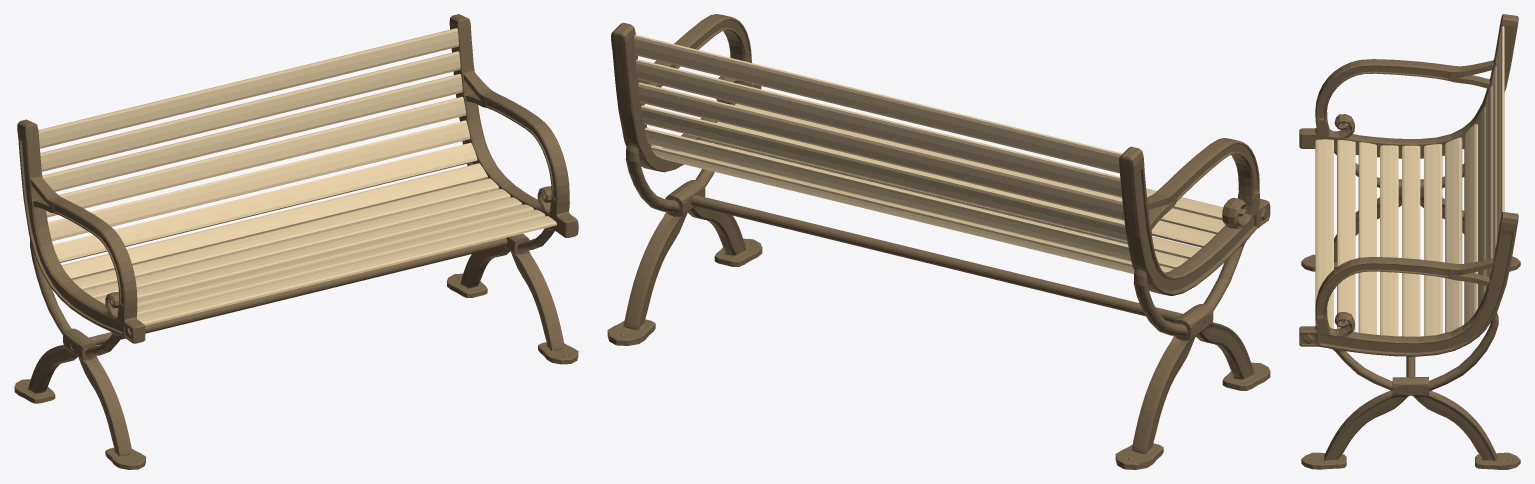
File: Bench N111021.obj
The picture shows the model from 3 angles, left to right: view 1: azimuth 30°, elevation 25°; view 2: azimuth 150°, elevation 25°; view 3: azimuth 270°, elevation 25°; orthographic projection. The views are drawn at different scales.
Parts seen in each view (by area): view 1: bench; view 2: bench; view 3: bench.
Boxes of the visible parts, box(x1,y1,x2,y2) form: bench: box(14, 14, 578, 469); bench: box(607, 14, 1270, 469); bench: box(1299, 14, 1520, 469).
Bounding box in the file's own units: 1745 × 968 × 775.
